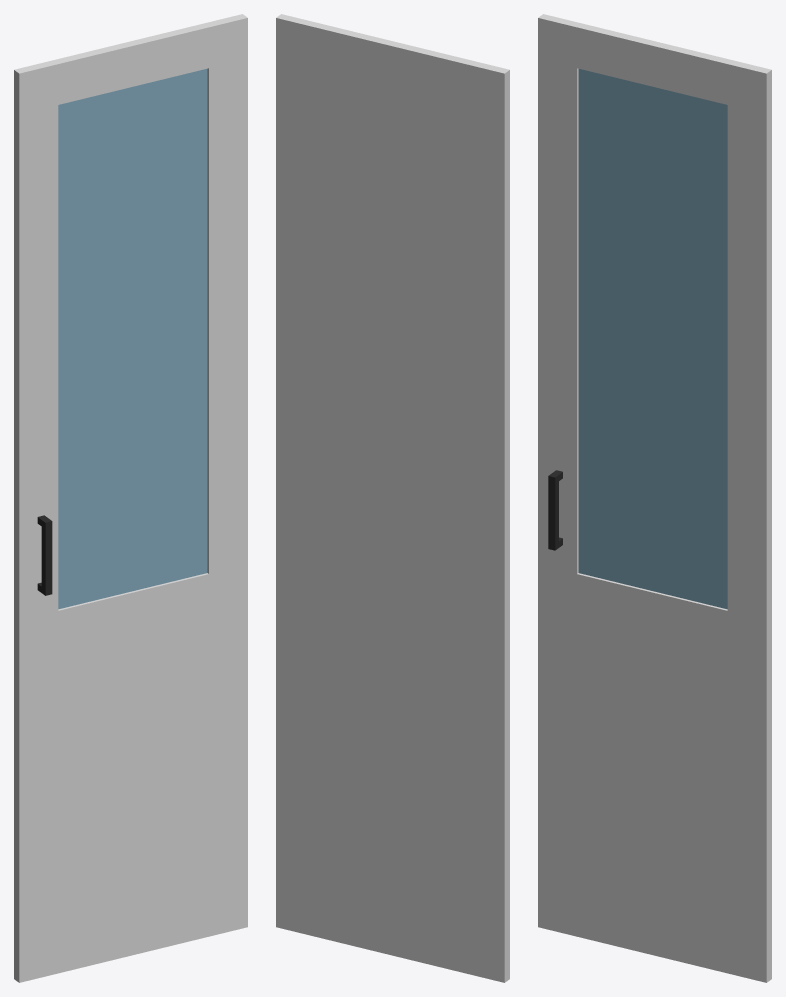
Rendered from Wardrobe1_C1_04.fbx.
3 views of the same model, side by side, from view 1: azimuth 30°, elevation 25°; view 2: azimuth 150°, elevation 25°; view 3: azimuth 330°, elevation 25° (orthographic).
Visible parts, largest first — view 1: Wardrobe1_C1_04; view 2: Wardrobe1_C1_04; view 3: Wardrobe1_C1_04.
Boxes of the visible parts, x1,y1,x2,y2 form: Wardrobe1_C1_04: [14, 14, 247, 982]; Wardrobe1_C1_04: [276, 14, 509, 982]; Wardrobe1_C1_04: [538, 14, 771, 982].
Size of the model in its own units: 50 by 190 by 5.02.
